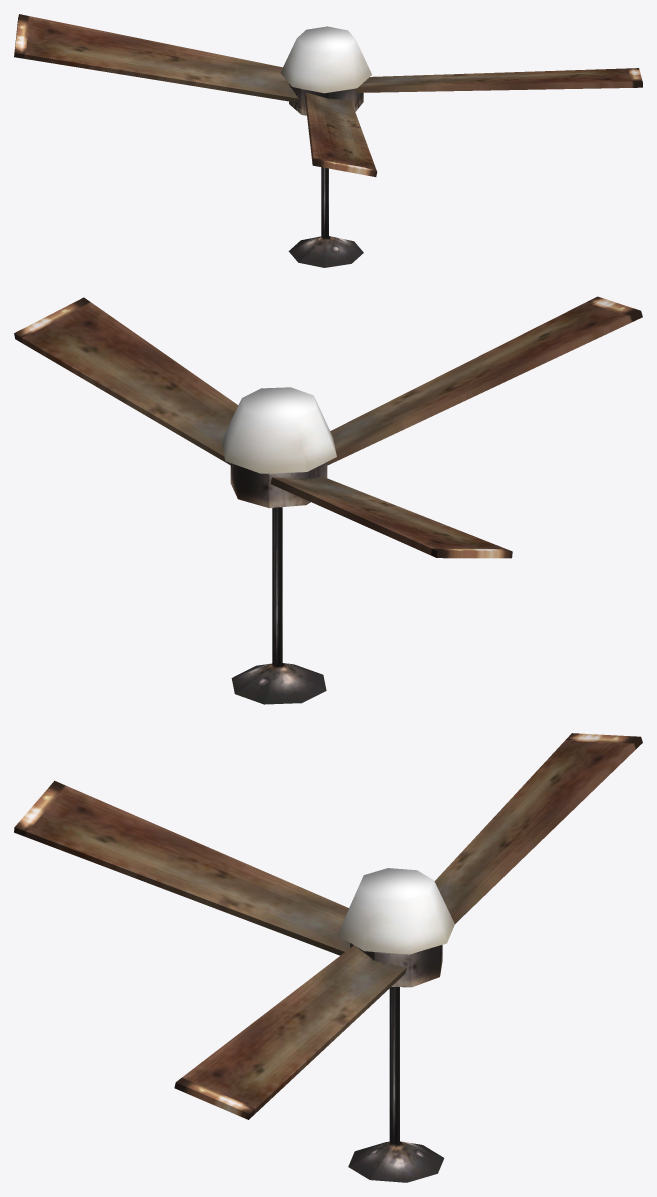
Rendered from fan_broken2.fbx.
3 renders of one model, top to bottom at view 1: azimuth 30°, elevation 25°; view 2: azimuth 150°, elevation 25°; view 3: azimuth 270°, elevation 25°, orthographic. The views are drawn at different scales.
Parts seen in each view (by area): view 1: mesh_0, mesh_1; view 2: mesh_0, mesh_1; view 3: mesh_0, mesh_1.
Part boxes in pixels (bbox=[...]): mesh_0: bbox=[14, 14, 642, 176]; mesh_1: bbox=[280, 26, 371, 267]; mesh_0: bbox=[14, 296, 642, 558]; mesh_1: bbox=[221, 387, 336, 704]; mesh_0: bbox=[14, 733, 642, 1119]; mesh_1: bbox=[338, 868, 454, 1182].
Size of the model in its own units: 155 by 65.65 by 129.
1 material, 1 textured.
